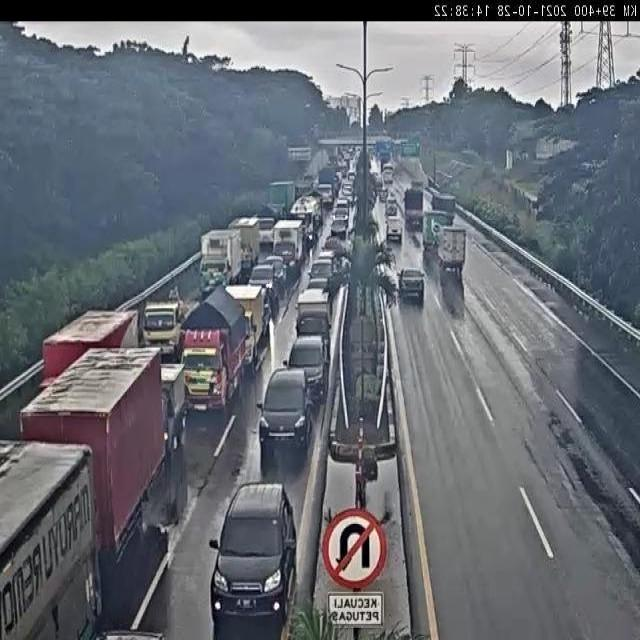Car: (209, 481, 298, 637), (257, 367, 315, 464), (287, 336, 326, 405), (296, 286, 333, 346), (247, 264, 280, 314), (396, 262, 432, 304), (308, 258, 335, 290), (316, 183, 334, 208), (343, 179, 355, 203), (336, 163, 346, 181), (347, 168, 356, 184)
Truck: (26, 344, 160, 538), (0, 439, 100, 638), (180, 294, 256, 414), (192, 226, 246, 294), (430, 224, 470, 277), (404, 185, 424, 232)
Van: (383, 204, 409, 248)
